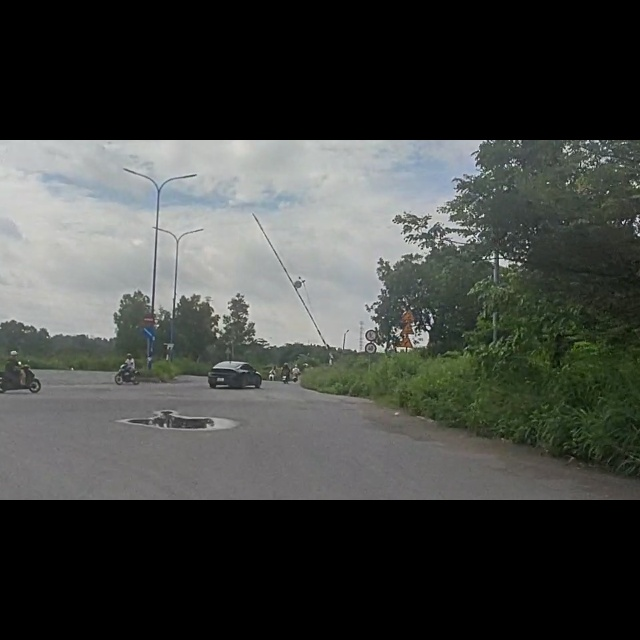bien_cam: (141, 328, 157, 357), (364, 359, 379, 384), (401, 348, 415, 372), (143, 307, 155, 331)
